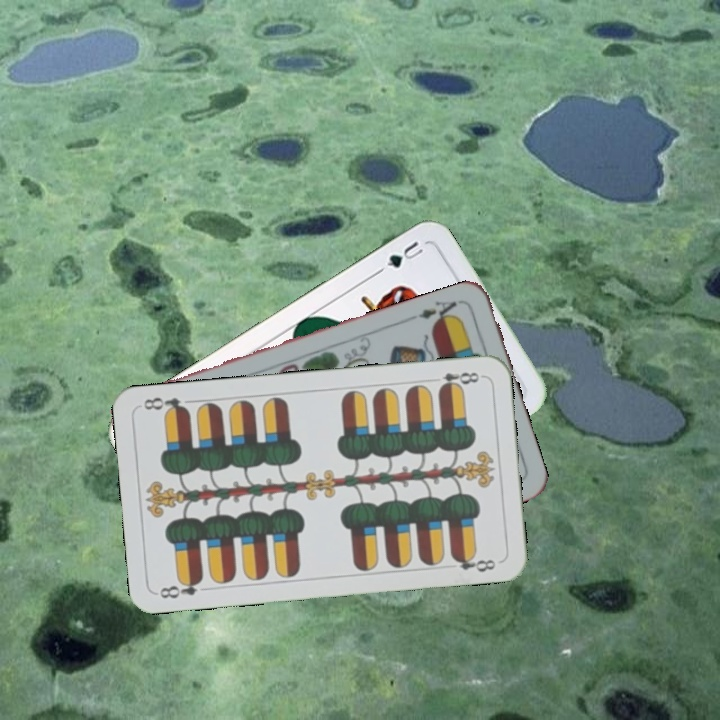E8: (156, 574, 206, 601), (435, 368, 485, 393)
EA: (407, 296, 464, 327)
GU: (374, 237, 426, 275)
